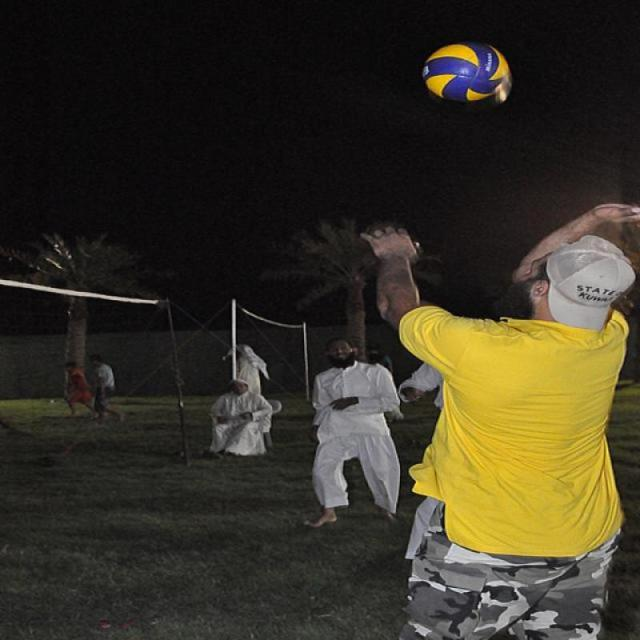volleyball: (418, 38, 511, 102)
